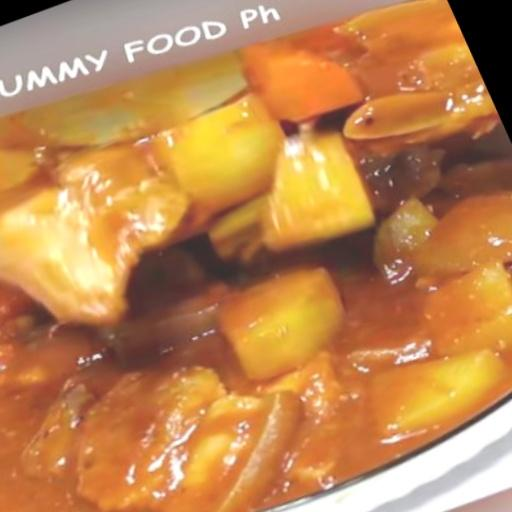pork caldereta: (0, 0, 511, 511)
